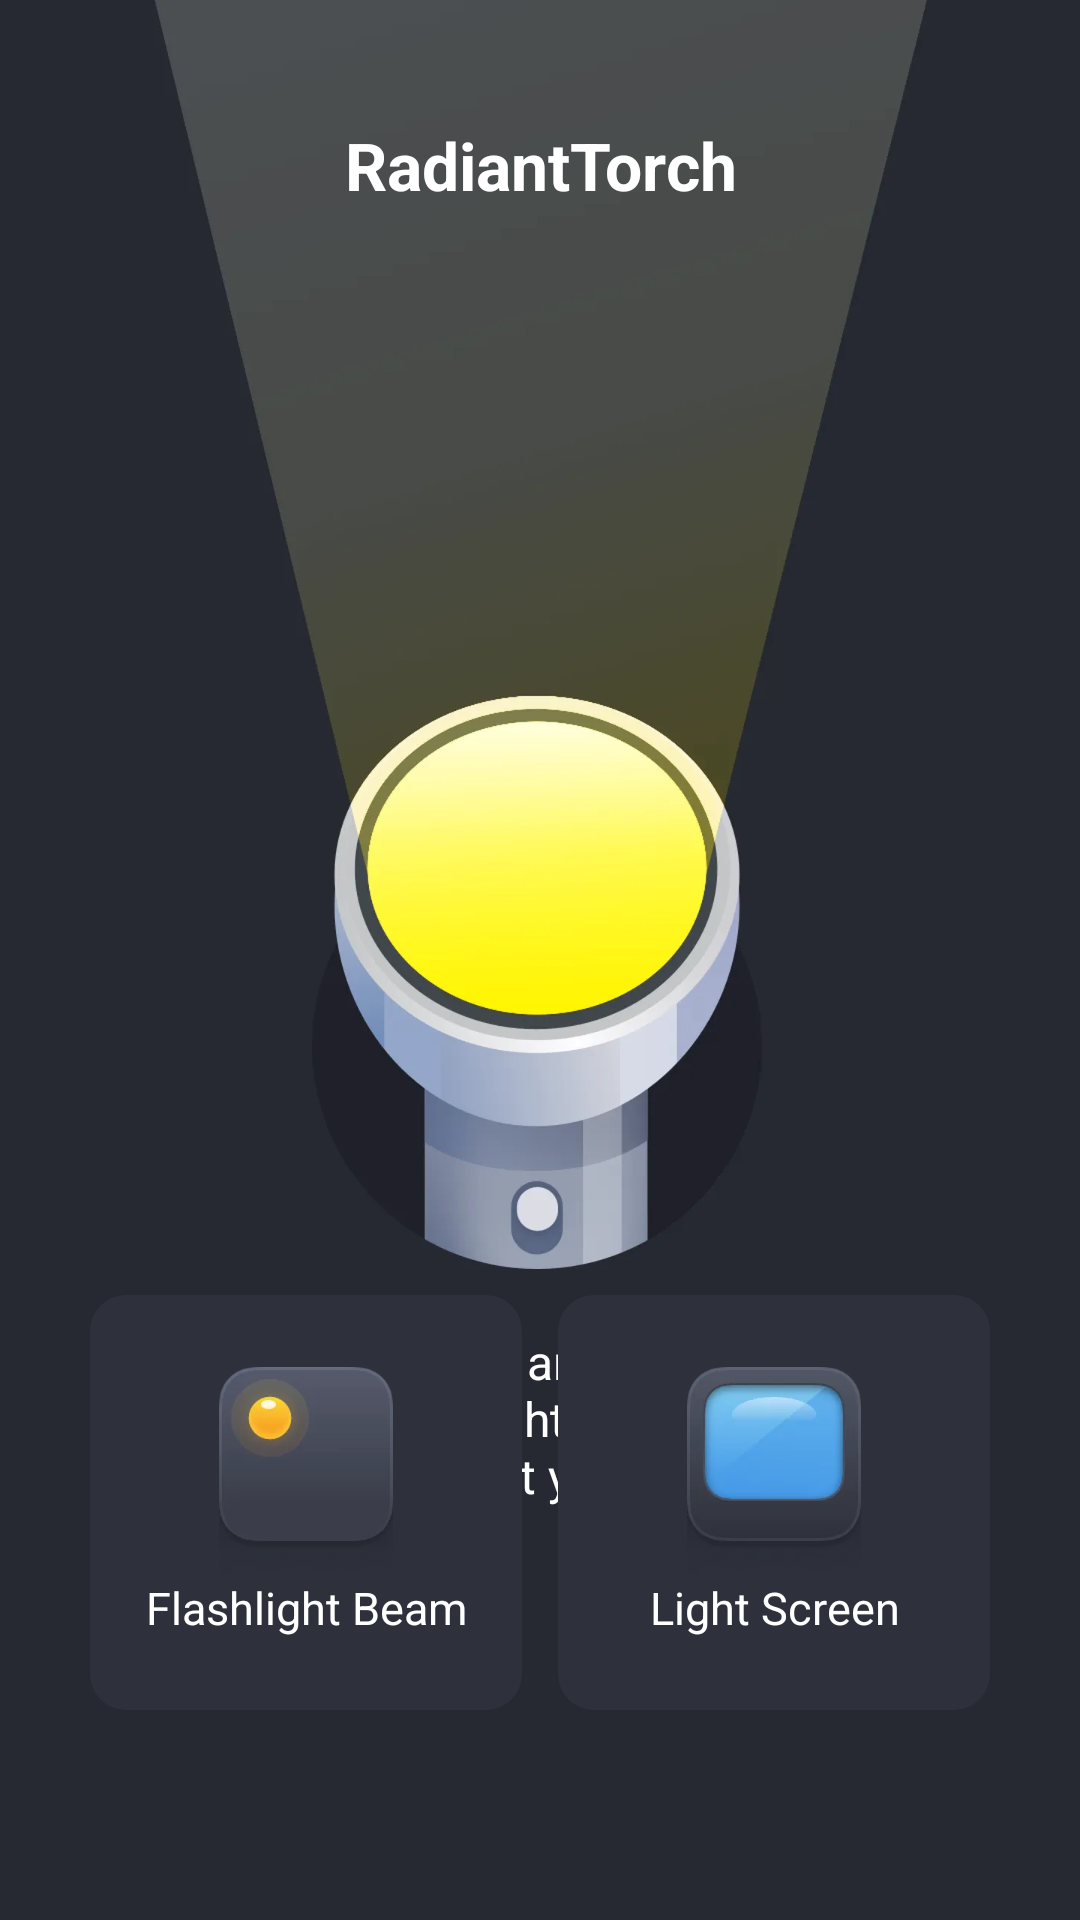

Screen size 1080*1920. Icon name, then its center in pixels as point (x, y):
led: point (306, 1487)
